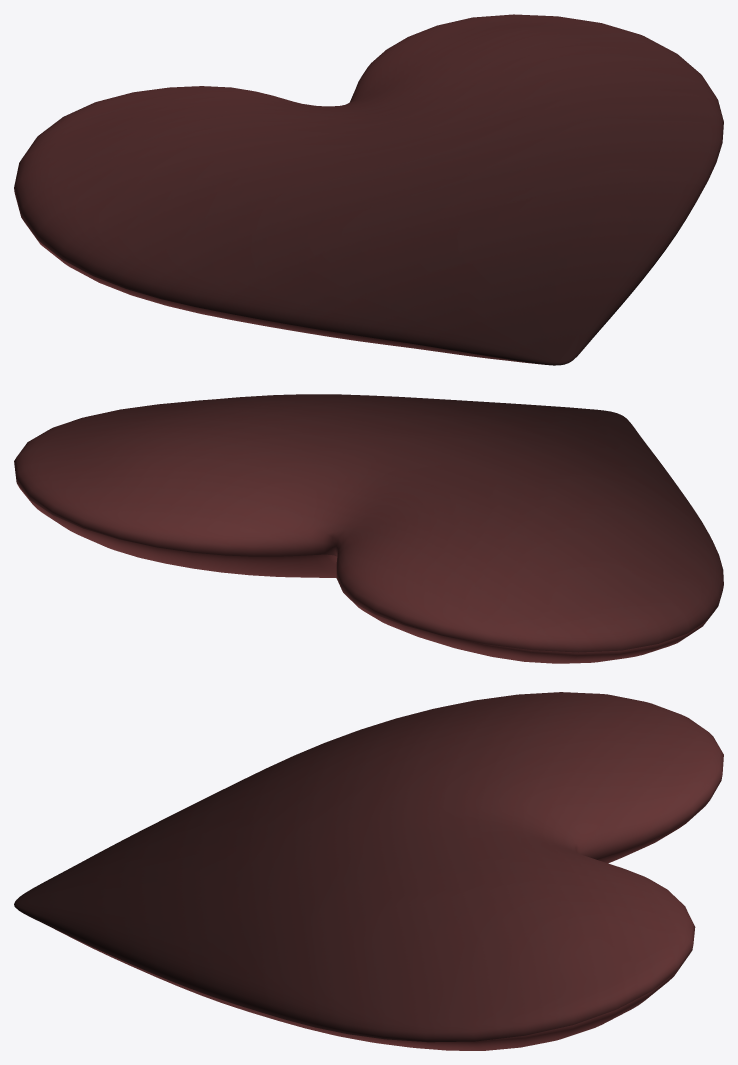
Rendered from heart.glb.
3 views of the same model, one above another, from view 1: azimuth 30°, elevation 25°; view 2: azimuth 150°, elevation 25°; view 3: azimuth 270°, elevation 25° (orthographic). The views are drawn at different scales.
Parts seen in each view (by area): view 1: cc_t_heart3; view 2: cc_t_heart3; view 3: cc_t_heart3.
Part boxes in pixels (x1,y1,x2,y2): cc_t_heart3: (14, 14, 723, 365); cc_t_heart3: (14, 394, 723, 663); cc_t_heart3: (14, 692, 723, 1050).
Bounding box in the file's own units: 0.1483 × 0.0299 × 0.1276.
1 material, 1 textured.
